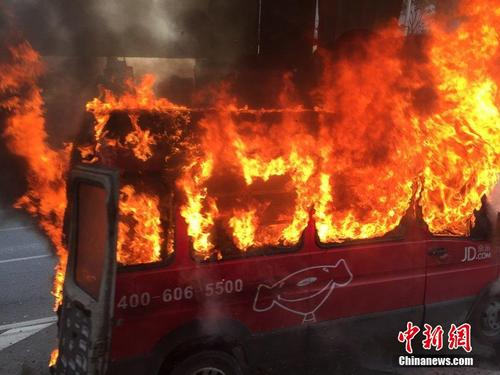fire: (421, 72, 493, 229), (300, 140, 411, 224), (162, 137, 298, 176)
